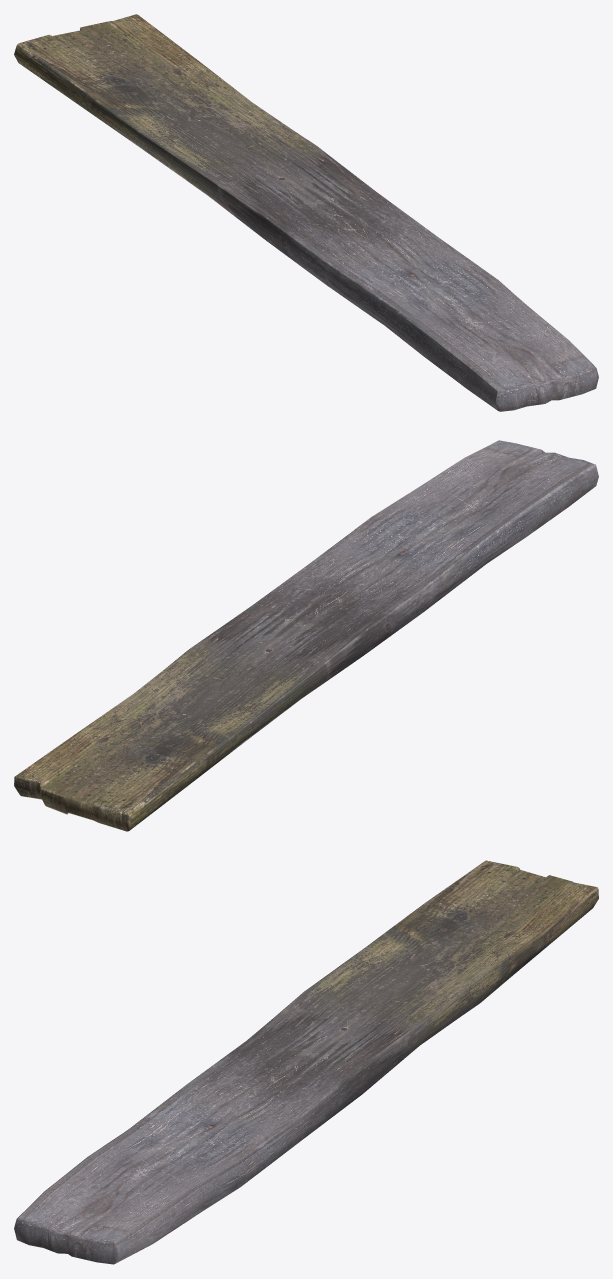
File: sm_WoodPlank_01_01.fbx
The picture shows the model from 3 angles, top to bottom: view 1: azimuth 30°, elevation 25°; view 2: azimuth 150°, elevation 25°; view 3: azimuth 330°, elevation 25°; orthographic projection.
Parts seen in each view (by area): view 1: sm_WoodPlank_01_01_LOD0; view 2: sm_WoodPlank_01_01_LOD0; view 3: sm_WoodPlank_01_01_LOD0.
Boxes of the visible parts, x1,y1,x2,y2 form: sm_WoodPlank_01_01_LOD0: (14,14,598,411); sm_WoodPlank_01_01_LOD0: (14,440,598,831); sm_WoodPlank_01_01_LOD0: (14,860,598,1264).
Bounding box in the file's own units: 15.22 × 99.44 × 4.03.
